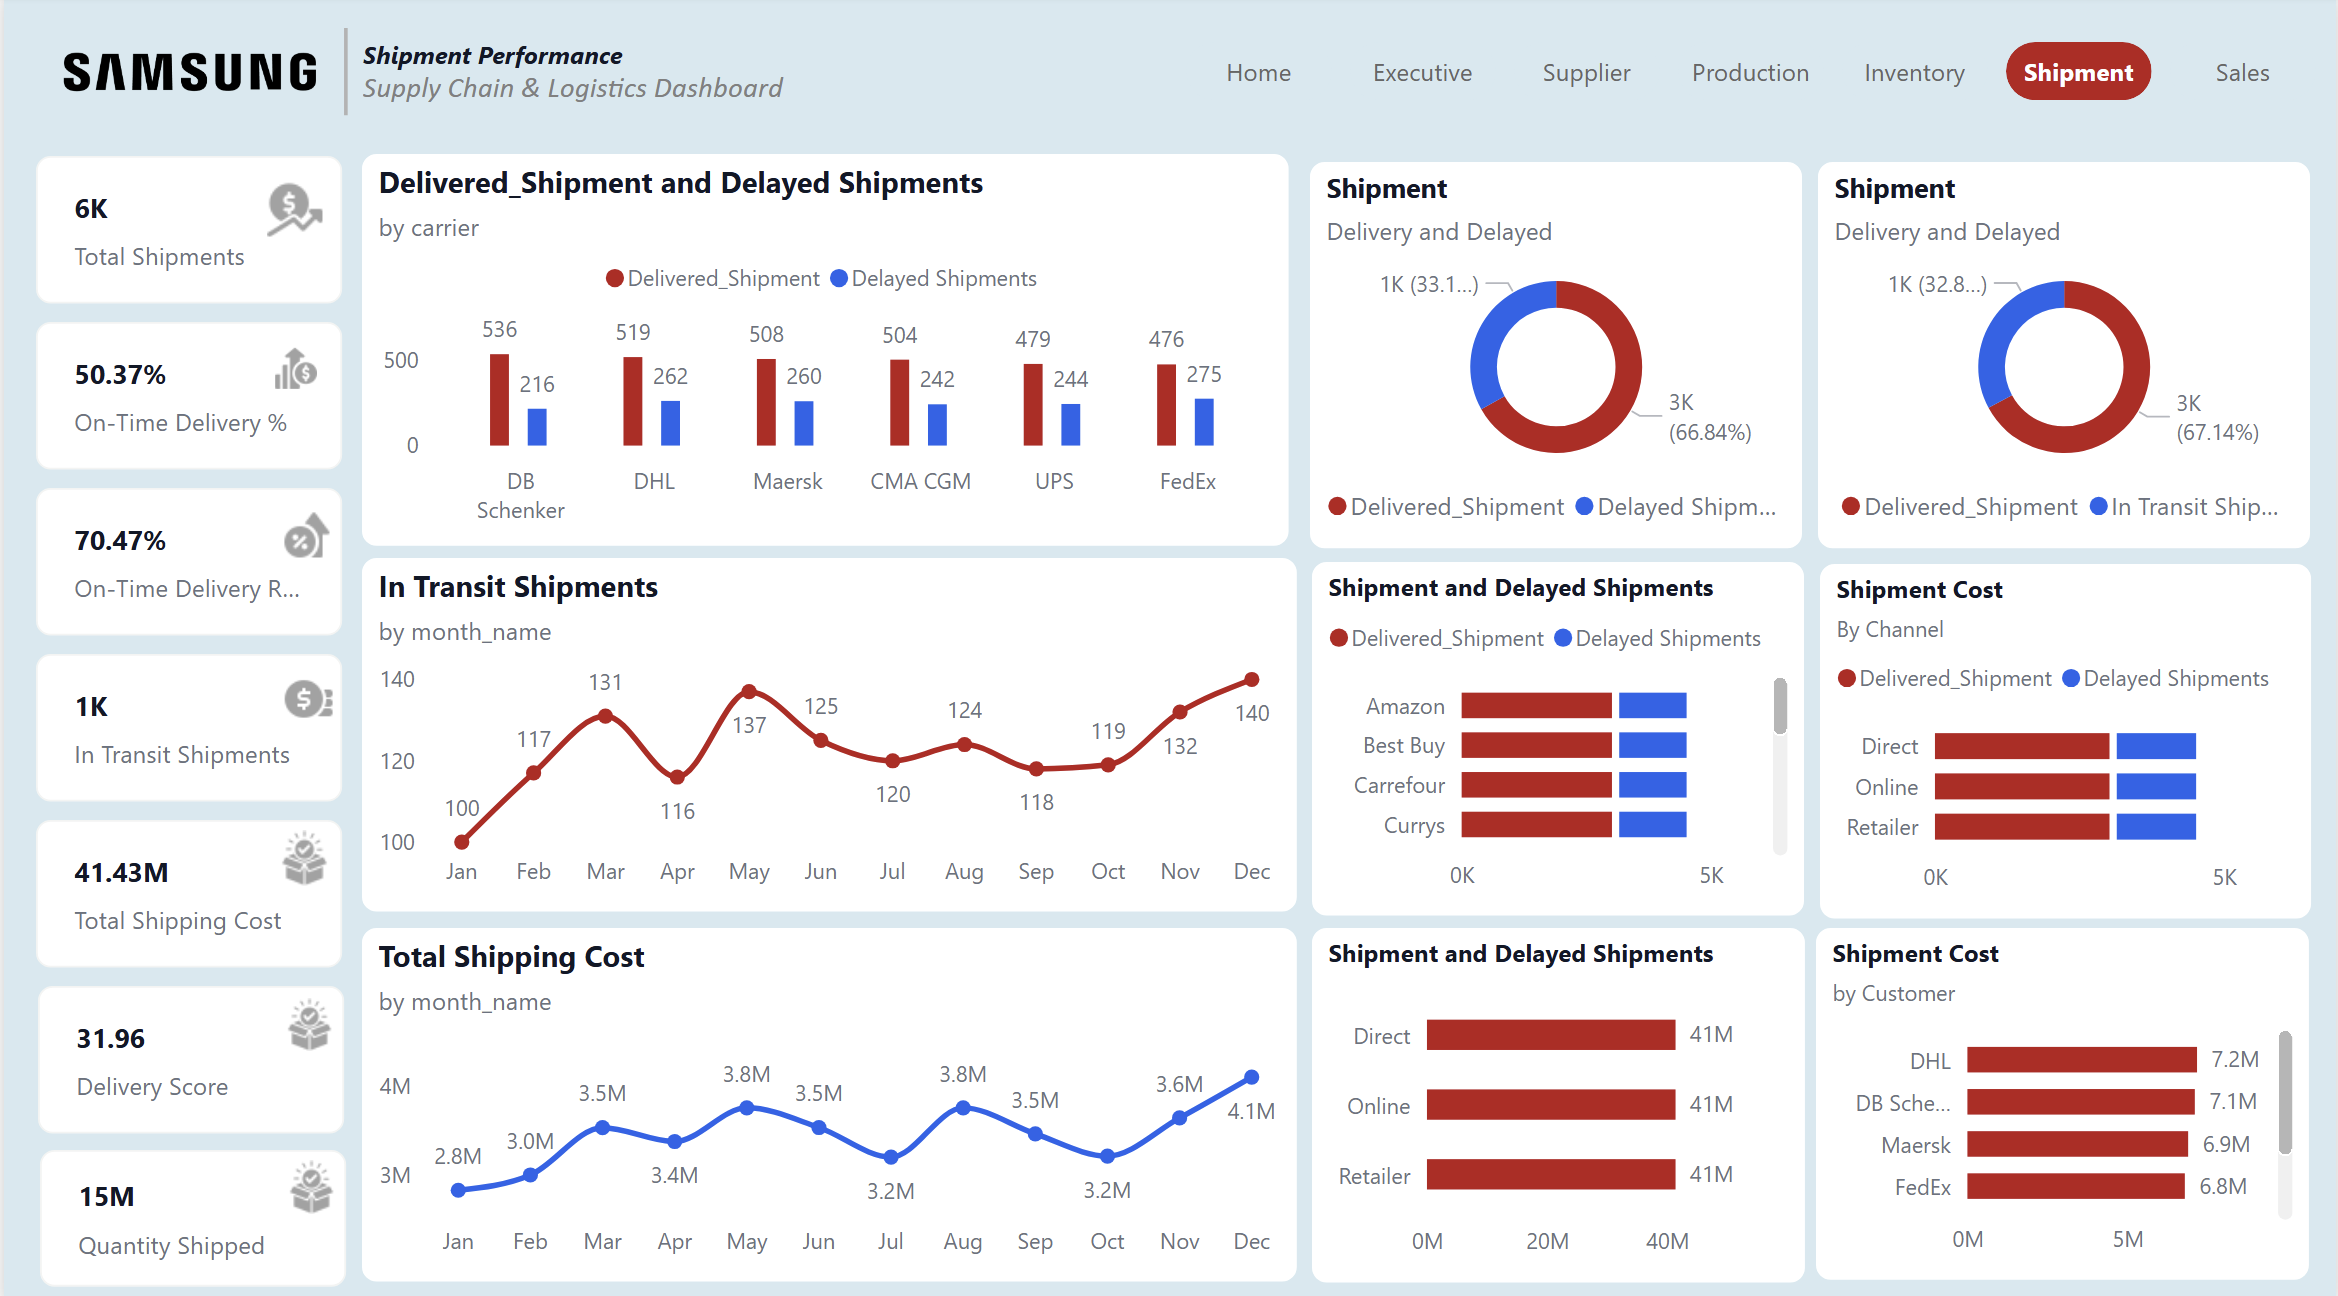

Layout of this report page (visuals, bound fields, positions):
{"tool":"powerbi","page":{"name":"Shipment ","canvas":[1280,720],"ordinal":5},"visuals":[{"type":"lineChart","fields":{"Category":["dim_date.month_name"],"Y":["MeasureTable.In Transit Shipments"]},"box":[196.4,309.5,513.1,194],"z":0},{"type":"donutChart","title":"Shipment","fields":{"Y":["MeasureTable.Delivered_Shipment","MeasureTable.Delayed Shipments"]},"box":[716.7,91.7,270.2,211.9],"z":1000},{"type":"lineChart","fields":{"Category":["dim_date.month_name"],"Y":["MeasureTable.Total Shipping Cost"]},"box":[196.4,513.1,513.1,194],"z":2000},{"type":"barChart","title":"Shipment Cost","fields":{"Y":["MeasureTable.Delivered_Shipment","MeasureTable.Delayed Shipments"],"Category":["dim_customer.channel_type"]},"box":[996.2,312.4,269.3,194.3],"z":3000},{"type":"clusteredColumnChart","fields":{"Y":["MeasureTable.Delivered_Shipment","MeasureTable.Delayed Shipments"],"Category":["fact_shipment.carrier"]},"box":[196.4,88.1,508.3,215],"z":4000},{"type":"cardVisual","fields":{"Data":["MeasureTable.Total Shipping Cost"]},"box":[17.7,453.6,168,81],"z":4000,"group":"g2"},{"type":"image","box":[16.7,19,164.3,47.6],"z":5000},{"type":"cardVisual","fields":{"Data":["MeasureTable.Total Shipments"]},"box":[17.8,89.1,167.9,81],"z":5000,"group":"g6"},{"type":"textbox","box":[192.3,19,294.8,48.1],"z":6000},{"type":"cardVisual","fields":{"Data":["MeasureTable.On-Time Delivery Rate %"]},"box":[17.3,271.1,168,81],"z":6000,"group":"g4"},{"type":"shape","box":[159.3,19,56.9,48.1],"z":7000},{"type":"cardVisual","fields":{"Data":["MeasureTable.In Transit Shipments"]},"box":[17.3,362.1,168,81],"z":7000,"group":"g3"},{"type":"pageNavigator","box":[648.8,26.2,621.4,32.1],"z":8000},{"type":"cardVisual","fields":{"Data":["MeasureTable.On-Time Delivery %"]},"box":[17.7,180.1,168,81],"z":8000,"group":"g5"},{"type":"image","box":[139.2,98,40.5,40.5],"z":9000,"group":"g6"},{"type":"group","id":"g1","title":"Group 1","box":[18.7,544.5,168.8,81],"z":9000},{"type":"image","box":[144.3,187.8,32.9,35.4],"z":10000,"group":"g5"},{"type":"group","id":"g2","title":"Group 2","box":[17.7,453.1,168,81.5],"z":10000},{"type":"image","box":[145.2,276.3,40.5,40.5],"z":11000,"group":"g4"},{"type":"group","id":"g3","title":"Group 3","box":[17.3,362.1,168.3,81],"z":11000},{"type":"group","id":"g4","title":"Group 4","box":[17.3,271.1,168.4,81],"z":12000},{"type":"image","box":[147.7,366,38,40.5],"z":12000,"group":"g3"},{"type":"group","id":"g5","title":"Group 5","box":[17.7,180.1,168,81],"z":13000},{"type":"image","box":[145.2,453.1,40.2,41.4],"z":13000,"group":"g2"},{"type":"group","id":"g6","title":"Group 6","box":[17.8,89.1,167.9,81],"z":14000},{"type":"cardVisual","fields":{"Data":["MeasureTable.Delivery Performance Score"]},"box":[18.7,544.5,168,81],"z":14000,"group":"g1"},{"type":"image","box":[148.6,545.1,38.9,40.2],"z":15000,"group":"g1"},{"type":"group","id":"g7","title":"Group 7","box":[20.2,634.9,167.9,75],"z":15000},{"type":"barChart","title":"Shipment and Delayed Shipments","fields":{"Y":["MeasureTable.Delivered_Shipment","MeasureTable.Delayed Shipments"],"Category":["dim_customer.customer_name"]},"box":[717.9,311.9,270,194],"z":16000},{"type":"donutChart","title":"Shipment","fields":{"Y":["MeasureTable.Delivered_Shipment","MeasureTable.In Transit Shipments"]},"box":[995.2,91.7,270.2,211.9],"z":17000},{"type":"cardVisual","fields":{"Data":["MeasureTable.Total Quantity Shipped"]},"box":[20.2,634.9,168,75],"z":17000,"group":"g7"},{"type":"barChart","title":"Shipment and Delayed Shipments","fields":{"Category":["dim_customer.channel_type"],"Y":["MeasureTable.Total Shipping Cost"]},"box":[718.2,512.8,270.6,194.3],"z":18000},{"type":"image","box":[149.3,635,39.2,40.5],"z":18000,"group":"g7"},{"type":"barChart","title":"Shipment Cost","fields":{"Y":["MeasureTable.Total Shipping Cost"],"Category":["fact_shipment.carrier"]},"box":[994.9,512.8,270.6,193.1],"z":19000}]}

Visuals, with their boxes in screenshot pixels (x1, y1, x2, y2), scaled from the page's 1280x720 canvas onto the 2338x1296 screenshot:
lineChart - dim_date.month_name x MeasureTable.In Transit Shipments: rect(359, 557, 1296, 906)
"Shipment" donutChart: rect(1309, 165, 1803, 546)
lineChart - dim_date.month_name x MeasureTable.Total Shipping Cost: rect(359, 924, 1296, 1273)
"Shipment Cost" barChart: rect(1820, 562, 2312, 912)
clusteredColumnChart - MeasureTable.Delivered_Shipment x MeasureTable.Delayed Shipments: rect(359, 159, 1287, 546)
cardVisual - MeasureTable.Total Shipping Cost: rect(32, 816, 339, 962)
image: rect(31, 34, 331, 120)
cardVisual - MeasureTable.Total Shipments: rect(33, 160, 339, 306)
textbox: rect(351, 34, 890, 121)
cardVisual - MeasureTable.On-Time Delivery Rate %: rect(32, 488, 338, 634)
shape: rect(291, 34, 395, 121)
cardVisual - MeasureTable.In Transit Shipments: rect(32, 652, 338, 798)
pageNavigator: rect(1185, 47, 2320, 105)
cardVisual - MeasureTable.On-Time Delivery %: rect(32, 324, 339, 470)
image: rect(254, 176, 328, 249)
"Group 1" group: rect(34, 980, 342, 1126)
image: rect(264, 338, 324, 402)
"Group 2" group: rect(32, 816, 339, 962)
image: rect(265, 497, 339, 570)
"Group 3" group: rect(32, 652, 339, 798)
"Group 4" group: rect(32, 488, 339, 634)
image: rect(270, 659, 339, 732)
"Group 5" group: rect(32, 324, 339, 470)
image: rect(265, 816, 339, 890)
"Group 6" group: rect(33, 160, 339, 306)
cardVisual - MeasureTable.Delivery Performance Score: rect(34, 980, 341, 1126)
image: rect(271, 981, 342, 1054)
"Group 7" group: rect(37, 1143, 344, 1278)
"Shipment and Delayed Shipments" barChart: rect(1311, 561, 1804, 911)
"Shipment" donutChart: rect(1818, 165, 2311, 546)
cardVisual - MeasureTable.Total Quantity Shipped: rect(37, 1143, 344, 1278)
"Shipment and Delayed Shipments" barChart: rect(1312, 923, 1806, 1273)
image: rect(273, 1143, 344, 1216)
"Shipment Cost" barChart: rect(1817, 923, 2312, 1271)
